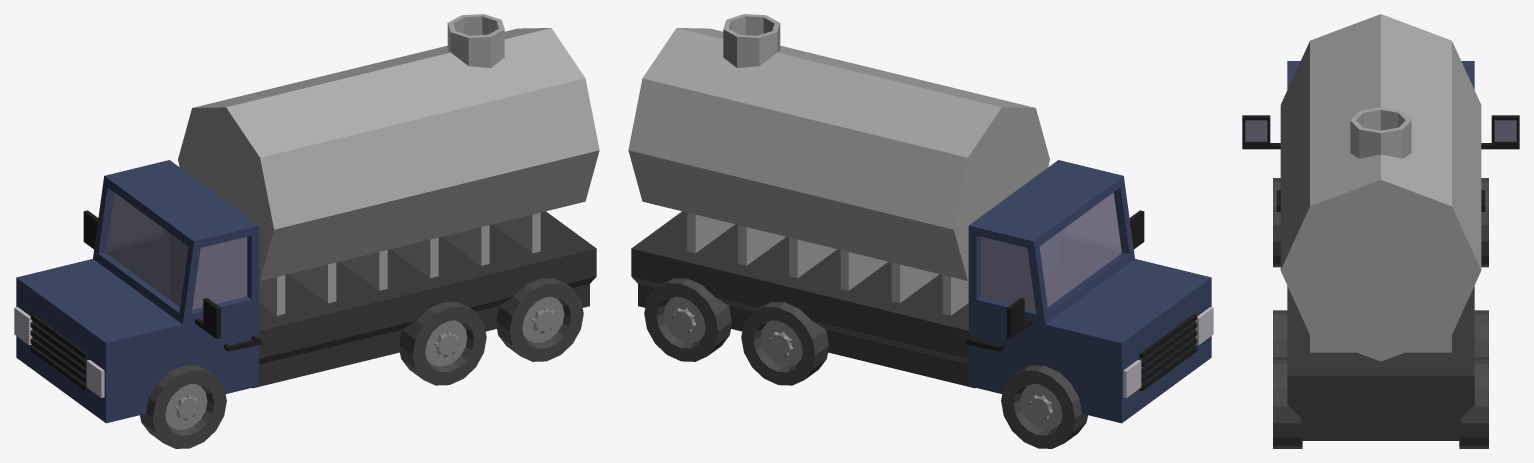
The model's file is Truck.fbx.
The picture shows the model from 3 angles, left to right: view 1: azimuth 30°, elevation 25°; view 2: azimuth 150°, elevation 25°; view 3: azimuth 270°, elevation 25°; orthographic projection. The views are drawn at different scales.
Visible parts, largest first — view 1: Truck1, Llanta9, Llanta8, Llanta10; view 2: Truck1, Llanta7, Llanta6, Llanta5; view 3: Truck1, Llanta6, Llanta8, Llanta7, Llanta9, Llanta5, Llanta10.
Part boxes in pixels (x1,y1,x2,y2): Truck1: (14, 14, 599, 423); Llanta9: (399, 302, 486, 385); Llanta8: (496, 278, 583, 361); Llanta10: (140, 365, 226, 448); Truck1: (628, 14, 1213, 423); Llanta7: (741, 302, 828, 385); Llanta6: (644, 278, 731, 361); Llanta5: (1001, 365, 1087, 448); Truck1: (1242, 14, 1519, 440); Llanta6: (1459, 359, 1488, 448); Llanta8: (1273, 359, 1302, 448); Llanta7: (1474, 310, 1488, 359); Llanta9: (1273, 310, 1287, 359); Llanta5: (1481, 178, 1488, 267); Llanta10: (1273, 178, 1280, 267).
Size of the model in its own units: 278 by 162 by 130.
